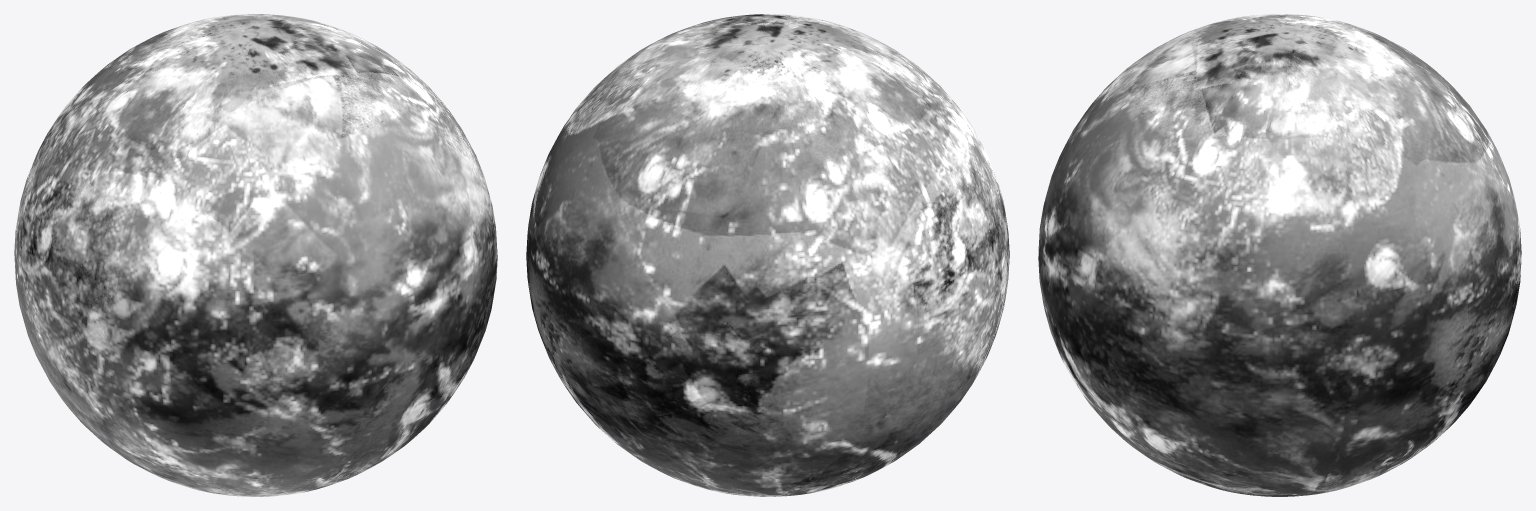
File: Teegarden-Star-b.glb
The picture shows the model from 3 angles, left to right: view 1: azimuth 30°, elevation 25°; view 2: azimuth 150°, elevation 25°; view 3: azimuth 270°, elevation 25°; orthographic projection.
Parts seen in each view (by area): view 1: Sphere; view 2: Sphere; view 3: Sphere.
Part boxes in pixels (x1,y1,x2,y2): Sphere: (14, 14, 497, 496); Sphere: (526, 14, 1009, 496); Sphere: (1038, 14, 1521, 496).
Size of the model in its own units: 2 by 2 by 2.
1 material, 1 textured.
